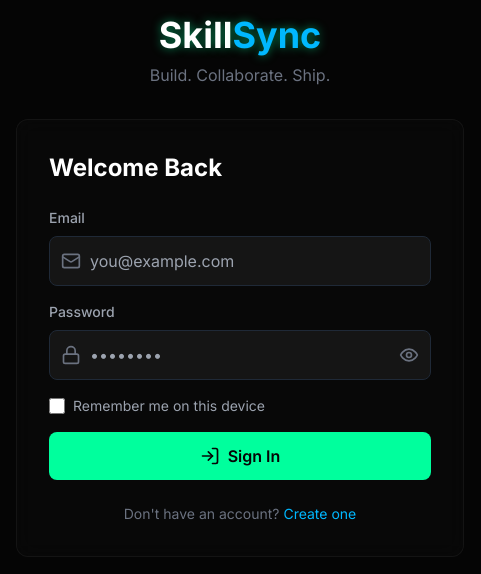
Login Component › Loading State › should disable button while loading
Type "test@example.com" into the field labelled "Email" at (240, 261), box [49, 236, 431, 286]
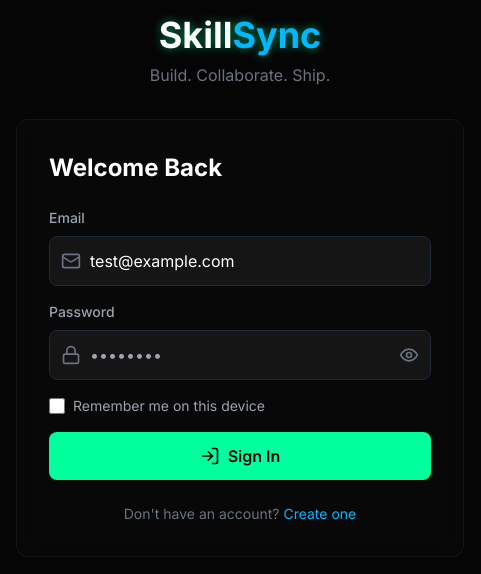
Type "Password123" into the password field labelled "Password" at (240, 355), box [49, 330, 431, 380]
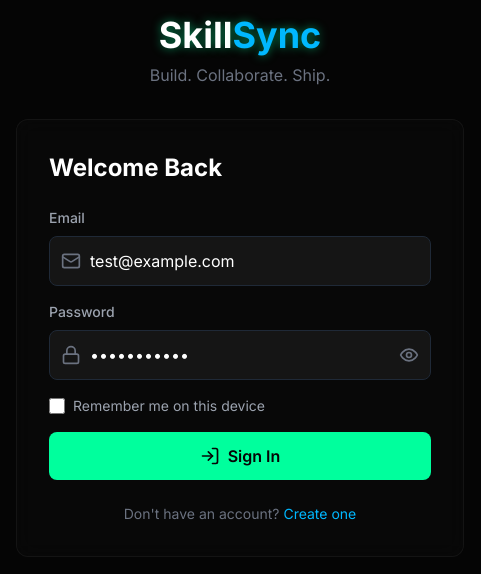
Click the button "Sign In" at (240, 456), box [49, 432, 431, 480]
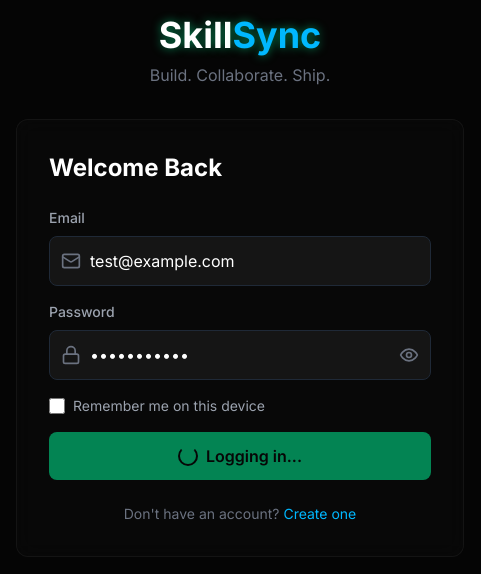
Now the button named "sign in" is disabled, box [49, 432, 431, 480]
